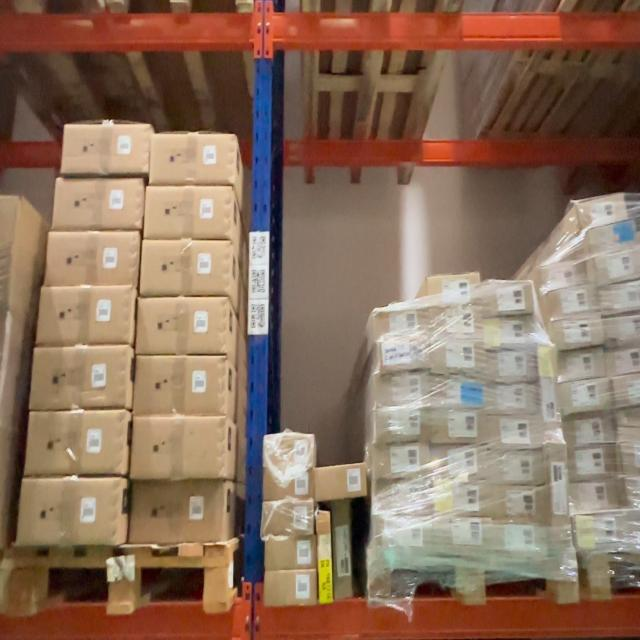box: (132, 418, 225, 479), (28, 413, 120, 473), (36, 349, 126, 408), (22, 482, 118, 535), (137, 358, 224, 414), (42, 290, 128, 344), (55, 177, 140, 228), (131, 488, 223, 535), (146, 188, 230, 238), (144, 242, 224, 292), (47, 235, 135, 280), (138, 302, 224, 348), (64, 125, 147, 171), (153, 135, 232, 181), (487, 490, 549, 525), (487, 451, 545, 484), (431, 451, 484, 485), (376, 448, 426, 482), (430, 377, 480, 411), (374, 410, 423, 443), (373, 520, 425, 551), (267, 571, 315, 604), (430, 485, 481, 516), (433, 339, 480, 372), (265, 436, 316, 466), (264, 471, 313, 502), (432, 414, 479, 446), (315, 469, 363, 500), (376, 377, 424, 408), (262, 507, 312, 536), (484, 314, 533, 343), (376, 302, 424, 331), (380, 343, 426, 373), (376, 490, 422, 520), (484, 418, 538, 443), (484, 351, 534, 377), (484, 384, 536, 409), (436, 524, 482, 552), (490, 530, 546, 553), (266, 542, 315, 568), (318, 513, 332, 604), (482, 282, 529, 309), (430, 276, 480, 300), (431, 310, 478, 334)
